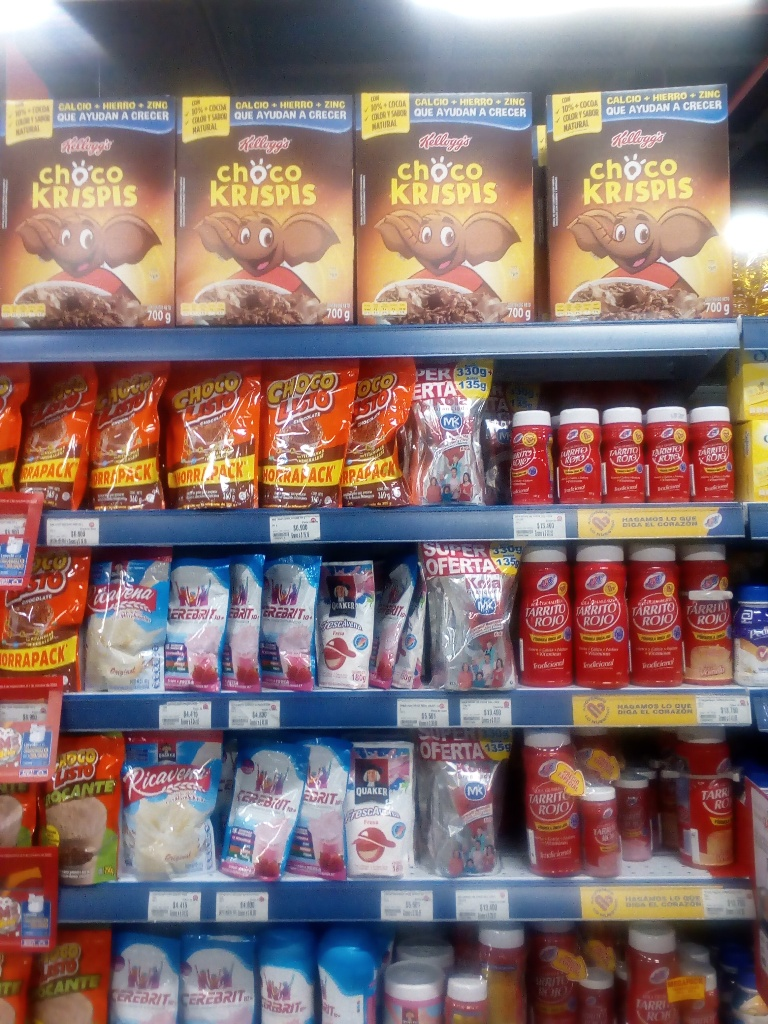COL0170102DYP25000: (44, 739, 123, 886)
COL0170103DYP36000: (23, 364, 92, 511)
